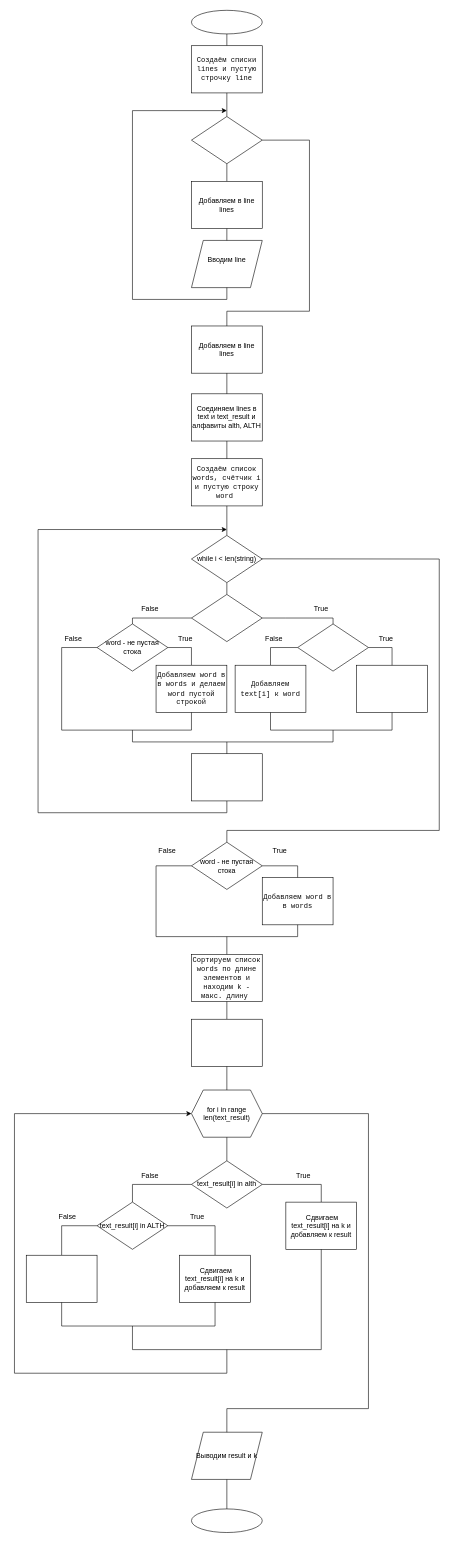
Image size: 450x1543. Some labels were removed from this diagram. The shapes that lost their labels are listed below. From the top down, each one's box as (x1, y1, x2, y2) in pixels, then its label:
(191, 10, 262, 34): Начало
(191, 116, 262, 164): while line пустая, или кончается не точкой
(191, 594, 262, 642): text[i] in alth+ALTH
(297, 623, 368, 671): len(word) == 20
(356, 665, 427, 712): Добавляем word к words и делаем word пустой строкой
(191, 753, 262, 801): Добавляем 1 к счётчику i
(191, 1019, 262, 1066): Задаём пустую строку result
(26, 1255, 97, 1302): Добавляем text_result[i] к result
(191, 1508, 262, 1533): Конец
